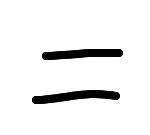eqv: (32, 49, 123, 104)
